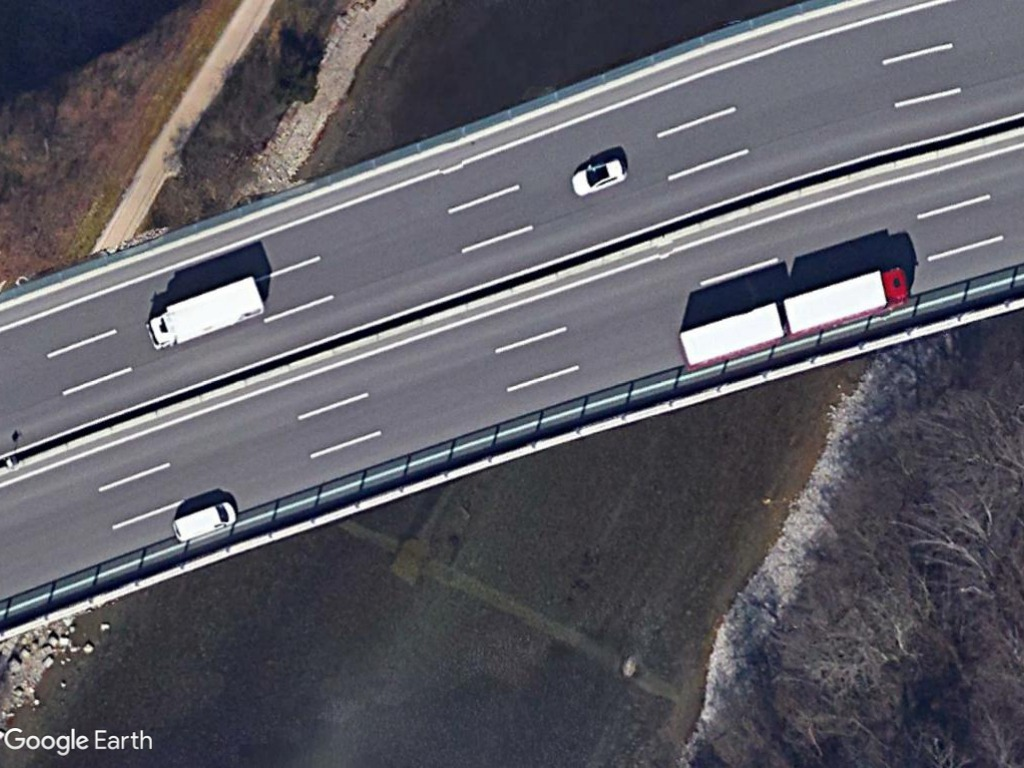car: (567, 158, 629, 198)
truck: (140, 271, 269, 356), (778, 264, 911, 340)
van: (170, 498, 240, 546)
